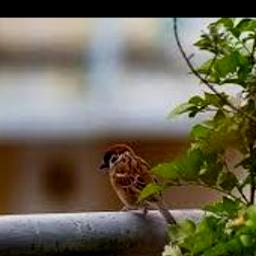Sparrow: (101, 143, 178, 224)
